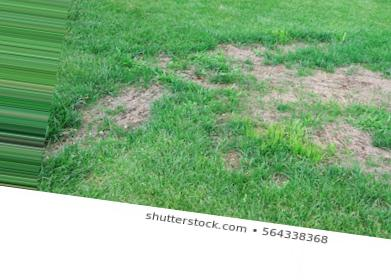patch: (290, 66, 381, 107), (98, 83, 169, 131), (322, 120, 373, 166), (238, 82, 280, 122), (219, 144, 244, 170)
